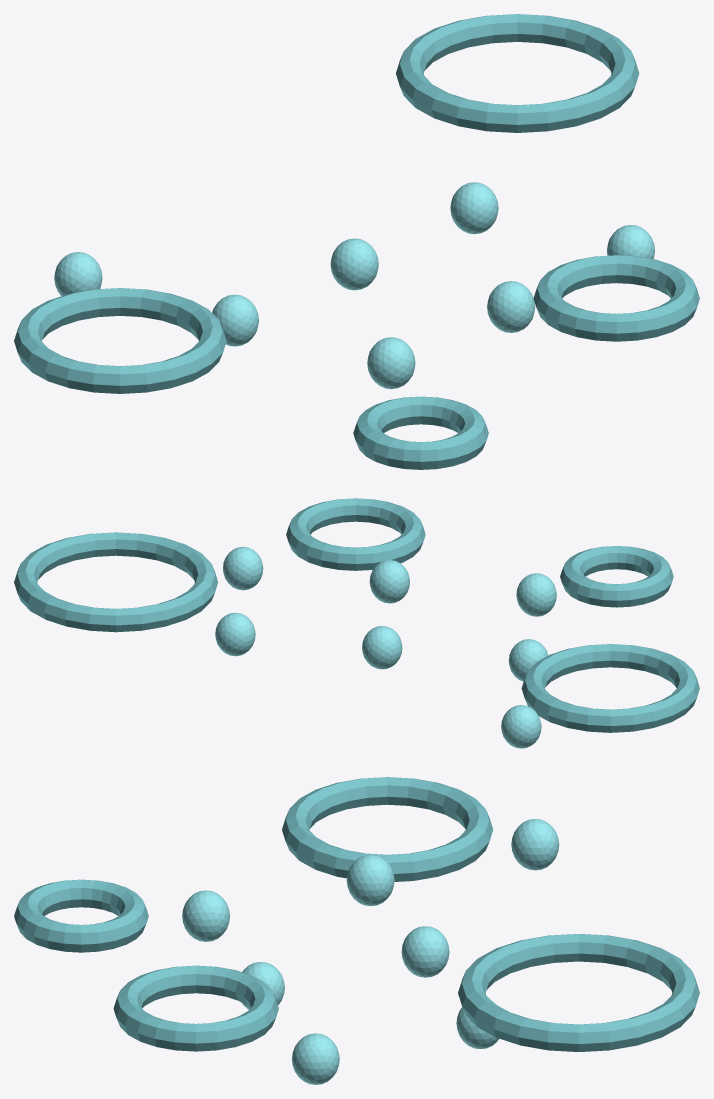
The model's file is burbujas.glb.
3 renders of one model, top to bottom at view 1: azimuth 30°, elevation 25°; view 2: azimuth 150°, elevation 25°; view 3: azimuth 270°, elevation 25°, orthographic. The views are drawn at different scales.
Parts seen in each view (by area): view 1: burbujas_02, burbujas_00, burbujas_01, burbujas_03, Detalle_04, Detalle_06, Detalle_03, Detalle_05, Detalle_02, Detalle_01, Detalle_07; view 2: burbujas_02, burbujas_00, burbujas_01, burbujas_03, Detalle_03, Detalle_01, Detalle_06, Detalle_04, Detalle_05, Detalle_07, Detalle_02; view 3: burbujas_02, burbujas_00, burbujas_01, burbujas_03, Detalle_01, Detalle_02, Detalle_03, Detalle_04, Detalle_07, Detalle_06, Detalle_05.
Part boxes in pixels (<box>): burbujas_02: <box>396,14,639,132</box>; burbujas_00: <box>14,288,226,393</box>; burbujas_01: <box>533,255,699,341</box>; burbujas_03: <box>353,396,488,469</box>; Detalle_04: <box>330,238,378,290</box>; Detalle_06: <box>450,182,498,234</box>; Detalle_03: <box>367,337,415,389</box>; Detalle_05: <box>487,281,535,332</box>; Detalle_02: <box>212,294,258,346</box>; Detalle_01: <box>54,252,102,296</box>; Detalle_07: <box>607,225,654,259</box>; burbujas_02: <box>14,532,218,632</box>; burbujas_00: <box>521,644,699,732</box>; burbujas_01: <box>286,498,425,570</box>; burbujas_03: <box>560,546,673,607</box>; Detalle_03: <box>516,573,556,616</box>; Detalle_01: <box>501,705,541,748</box>; Detalle_06: <box>215,612,255,656</box>; Detalle_04: <box>362,626,402,669</box>; Detalle_05: <box>369,560,409,603</box>; Detalle_07: <box>223,546,263,590</box>; Detalle_02: <box>508,639,548,681</box>; burbujas_02: <box>458,934,699,1051</box>; burbujas_00: <box>282,777,493,881</box>; burbujas_01: <box>113,965,278,1051</box>; burbujas_03: <box>14,879,148,952</box>; Detalle_01: <box>511,819,559,870</box>; Detalle_02: <box>346,854,394,906</box>; Detalle_03: <box>182,890,229,941</box>; Detalle_04: <box>401,926,449,977</box>; Detalle_07: <box>292,1033,339,1084</box>; Detalle_06: <box>456,1001,498,1048</box>; Detalle_05: <box>242,962,284,1009</box>.
Bounding box in the file's own units: 0.8497 × 0.1405 × 0.7349.
